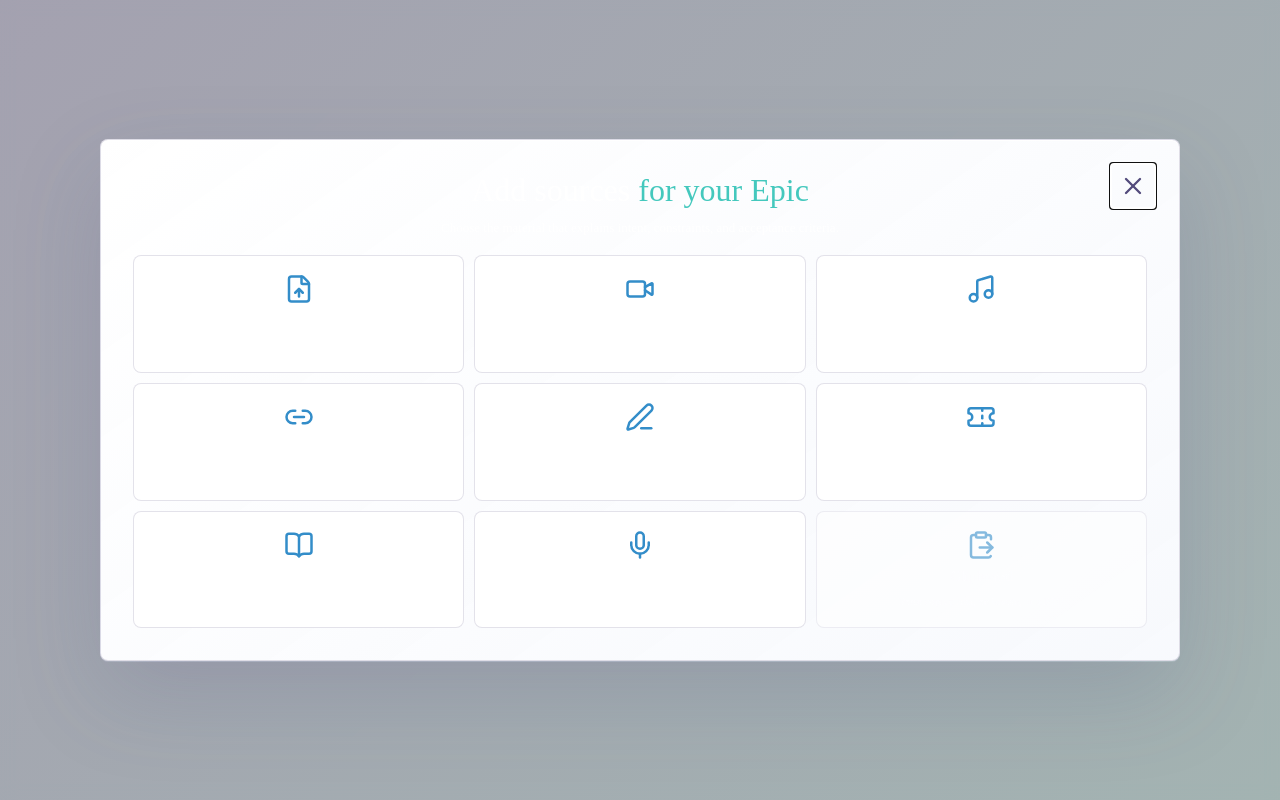
Test: AddSourceModal › reveals one input panel when a source tile is selected
Click the button "YouTube Paste a video or web URL below": x=299, y=442 top-left (133, 383), bottom-right (464, 501)
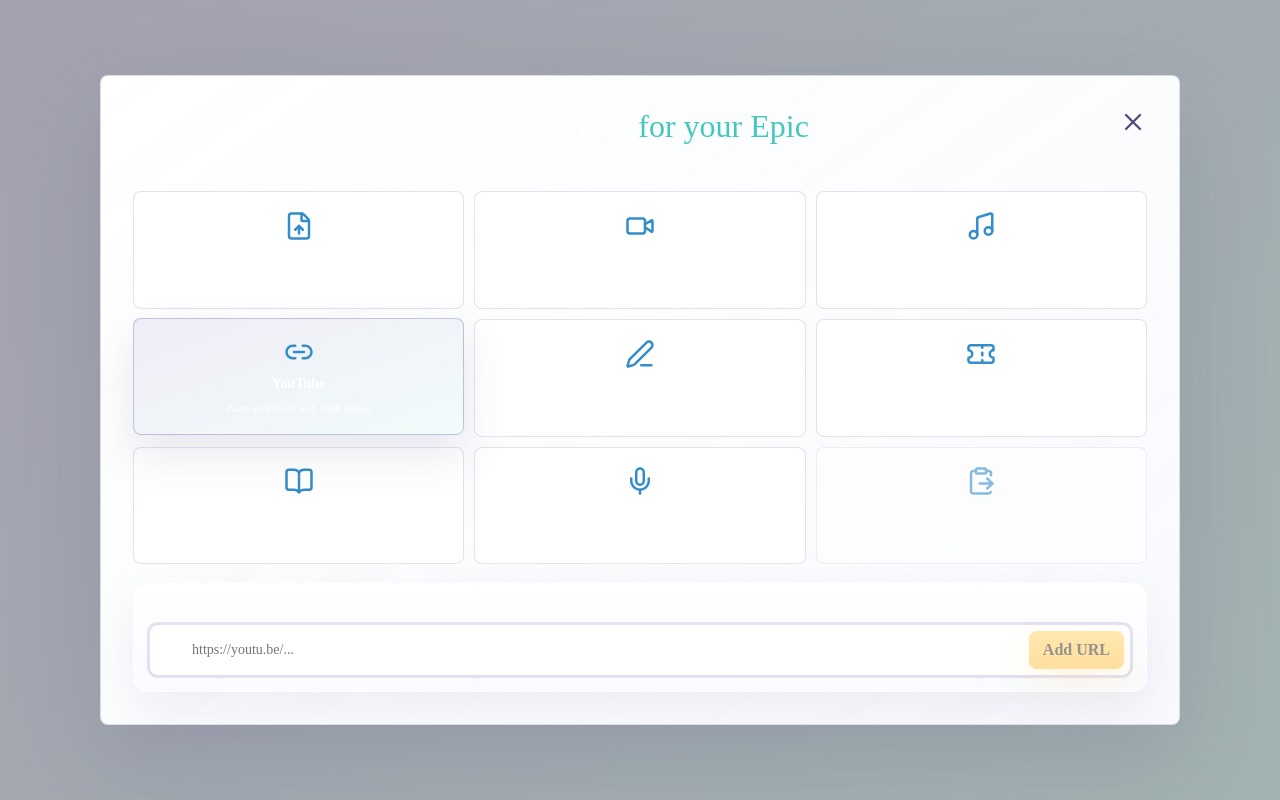
Expected: the field labelled "Sketch pad / manual notes" is not shown
Result: the field labelled "YouTube or web URL" is shown at top-left (192, 634), bottom-right (1019, 666)
Click the button "Sketch Pad Capture manual notes below": x=640, y=378 top-left (474, 320), bottom-right (806, 437)
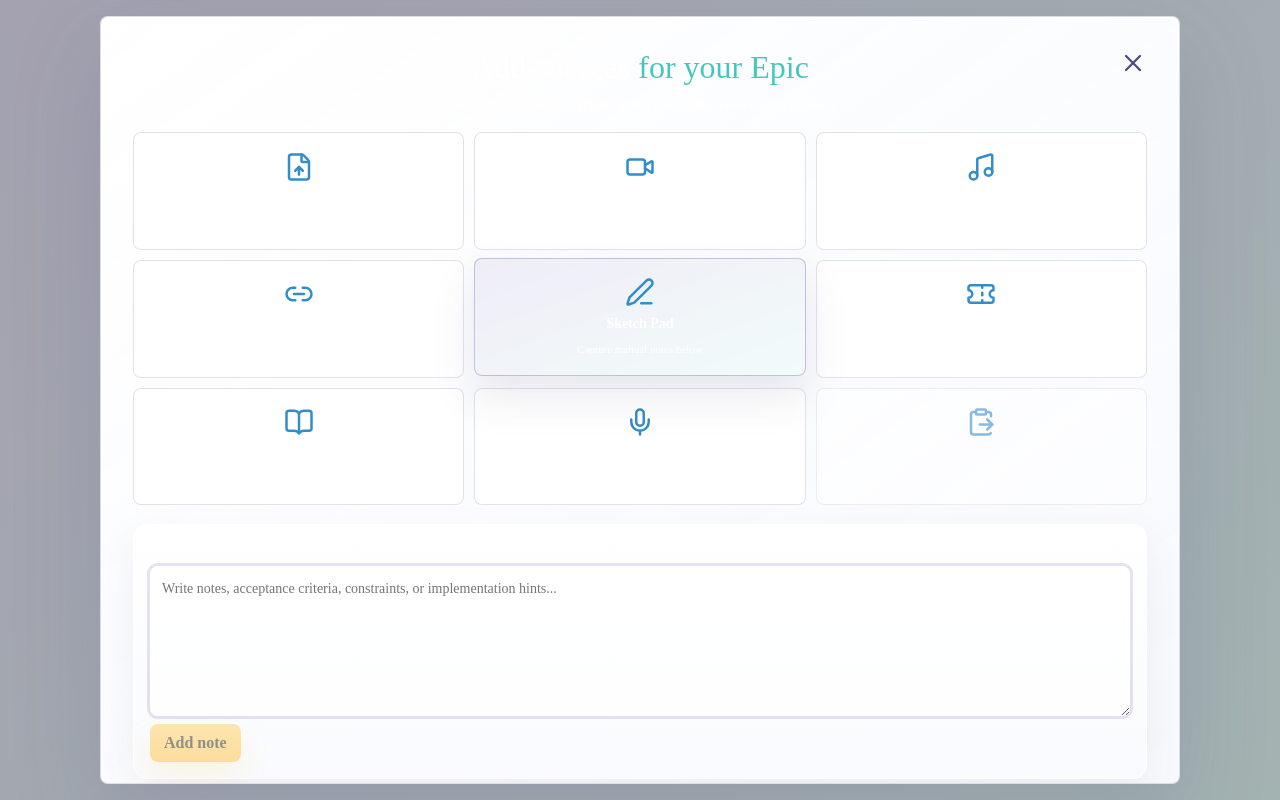
Result: the text box labelled "Sketch pad / manual notes" is shown at top-left (150, 566), bottom-right (1130, 716)
Result: the label labelled "YouTube or web URL" is gone
